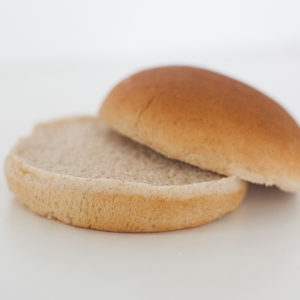hamburger_buns: (14, 77, 284, 236)
